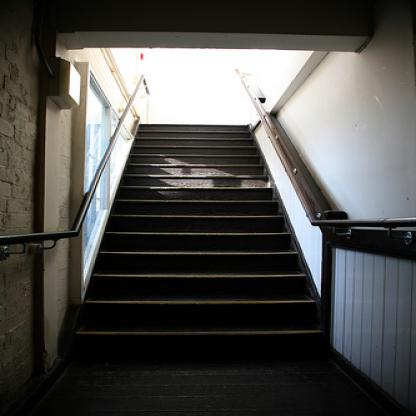stairs: (119, 229, 304, 367)
